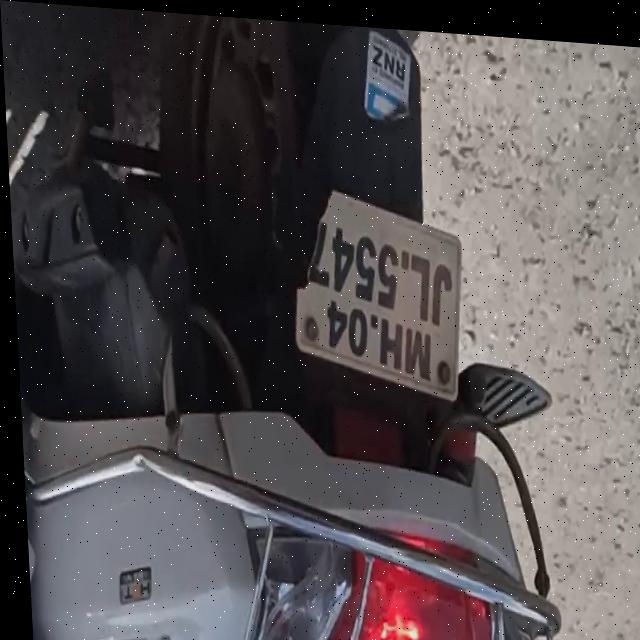plate: (286, 152, 464, 399)
